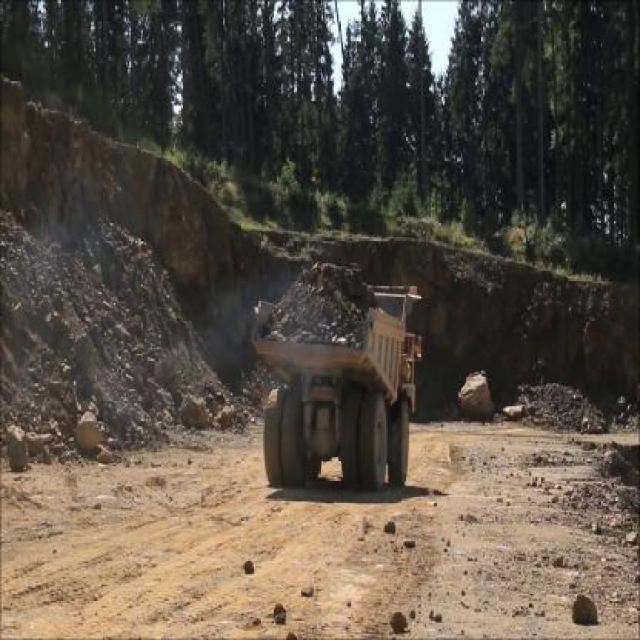dump_truck: (251, 264, 423, 490)
